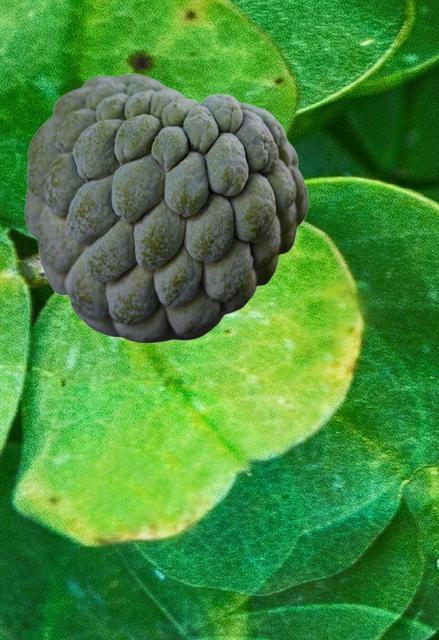atis: (24, 73, 307, 342)
